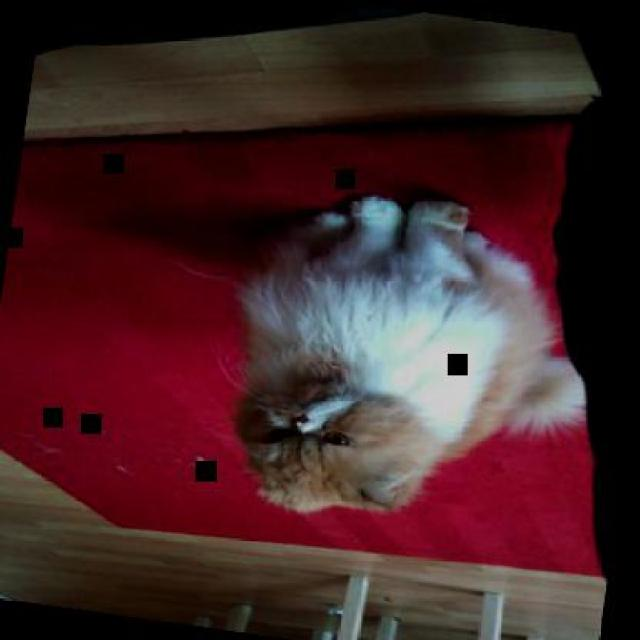cat: (208, 173, 614, 547)
